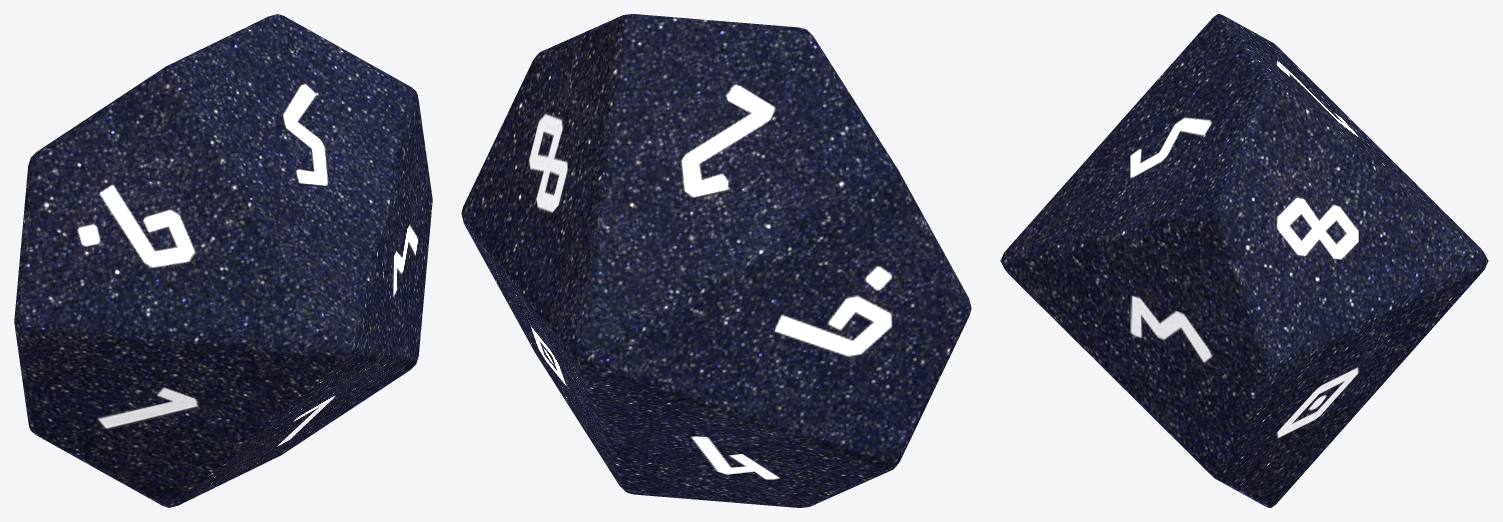
Rendered from dicemodel_d10.gltf.
3 renders of one model, left to right at view 1: azimuth 30°, elevation 25°; view 2: azimuth 150°, elevation 25°; view 3: azimuth 270°, elevation 25°, orthographic. The views are drawn at different scales.
Visible parts, largest first — view 1: dicemodel_d10; view 2: dicemodel_d10; view 3: dicemodel_d10.
Part boxes in pixels (x1,y1,x2,y2): dicemodel_d10: (14, 14, 432, 507); dicemodel_d10: (461, 14, 971, 507); dicemodel_d10: (1000, 14, 1488, 507).
Size of the model in its own units: 171 by 163 by 167.
Materials: 1 (1 with a texture image).
